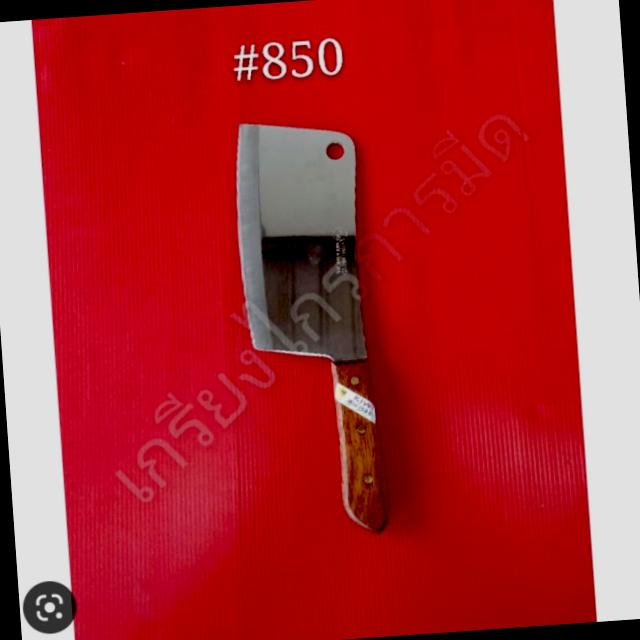knife: (208, 87, 456, 570)
